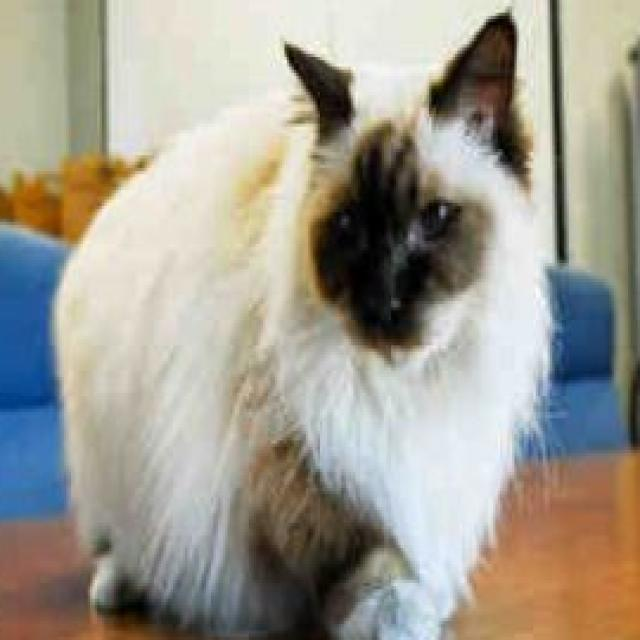Birman: (45, 0, 559, 640)
